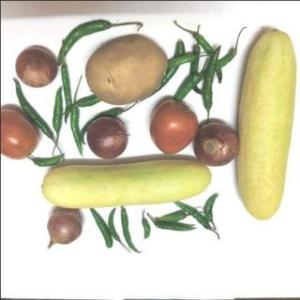onion: (82, 118, 132, 160), (193, 120, 238, 164), (10, 46, 57, 87), (44, 206, 84, 251)
